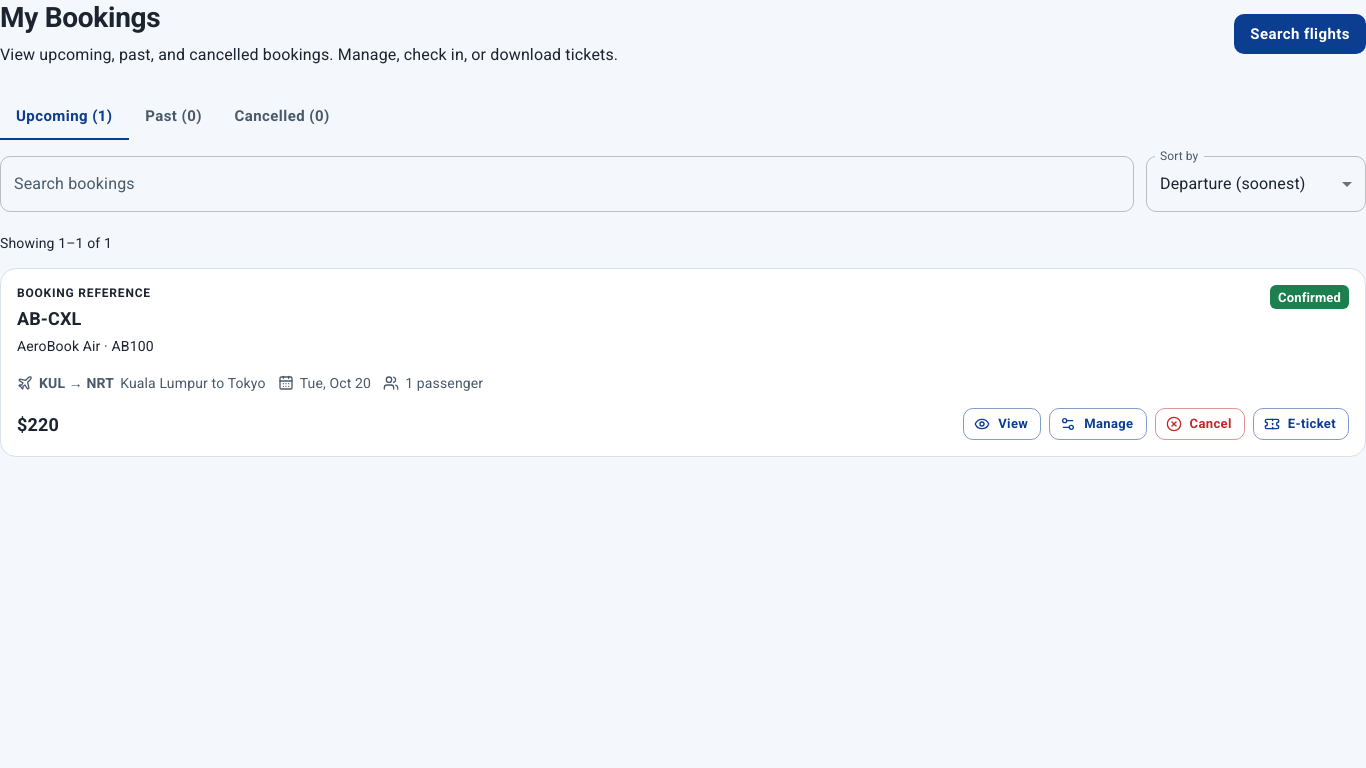
Test: MyBookingsPage › cancels a booking through the cancellation dialog flow
Click the button "Cancel". click: (1200, 424)
box: x1=1154 y1=408 x2=1245 y2=440
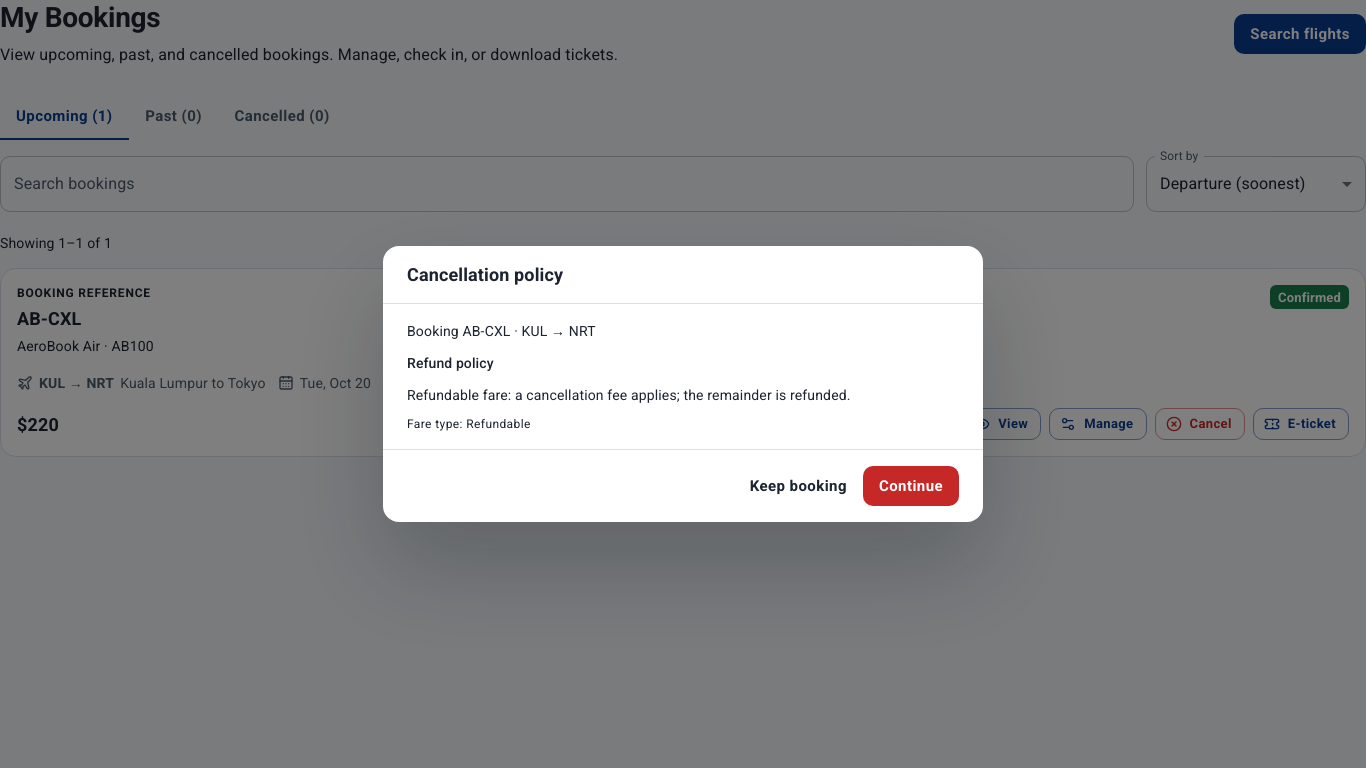
Click the button "Continue". click: (911, 486)
box: x1=863 y1=466 x2=959 y2=506
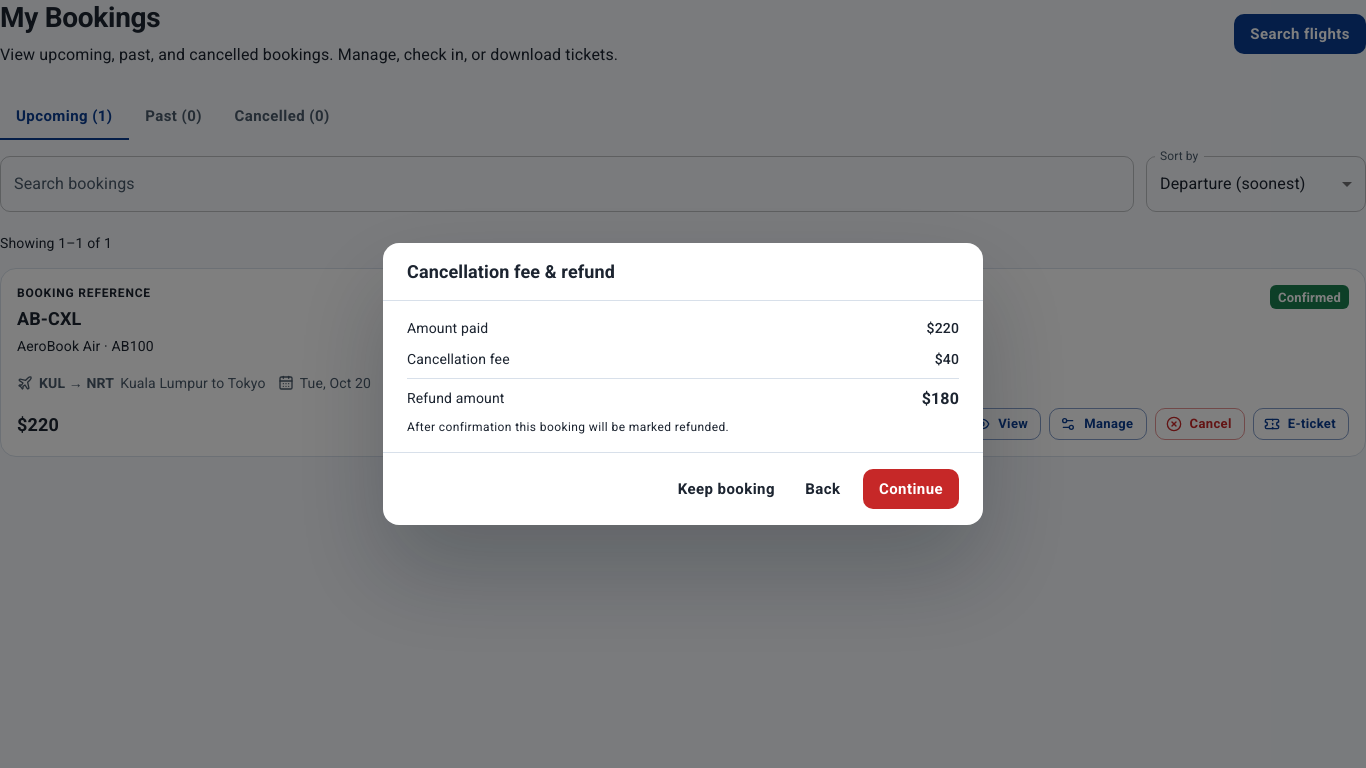
Click the button "Continue". click: (911, 489)
box: x1=863 y1=469 x2=959 y2=509
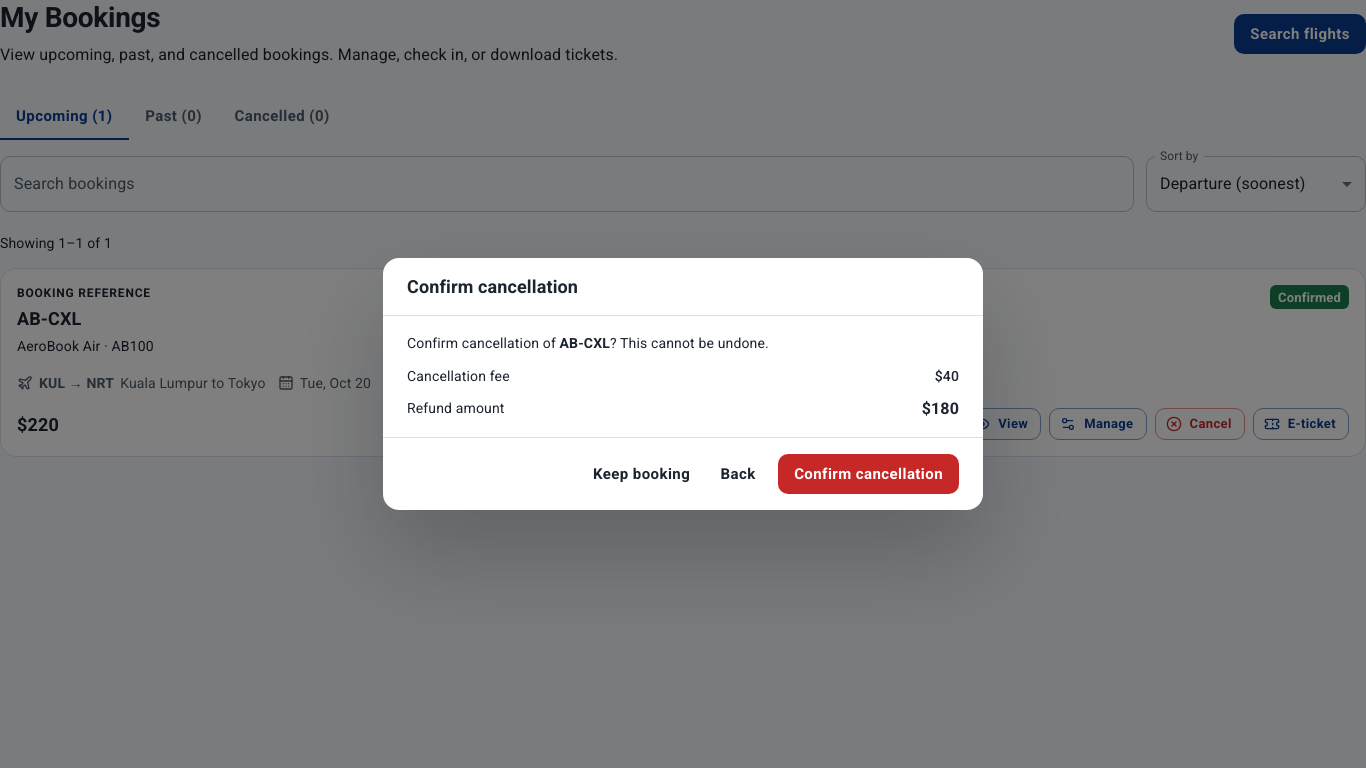
Click the button "Confirm cancellation". click: (869, 474)
box: x1=778 y1=454 x2=959 y2=494
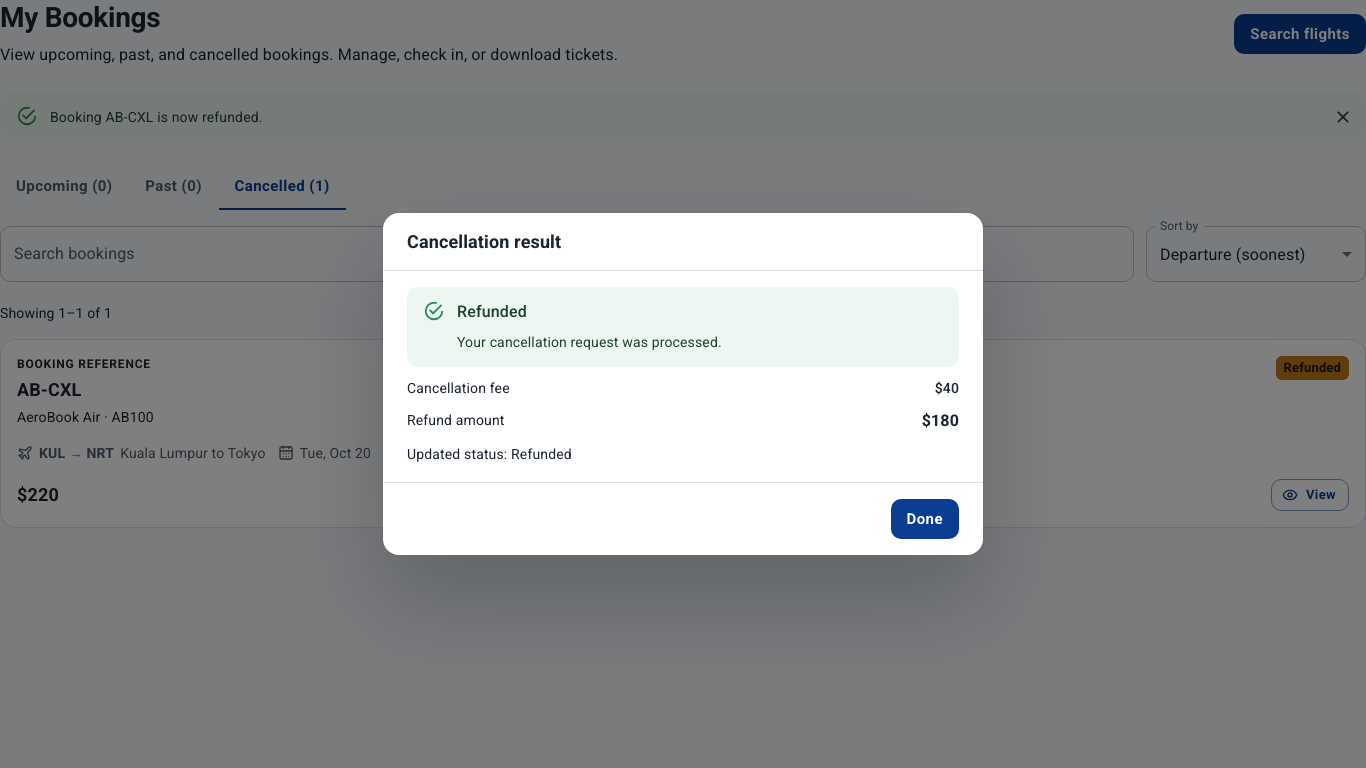
Click the button "Done". click: (925, 519)
box: x1=890 y1=499 x2=959 y2=539
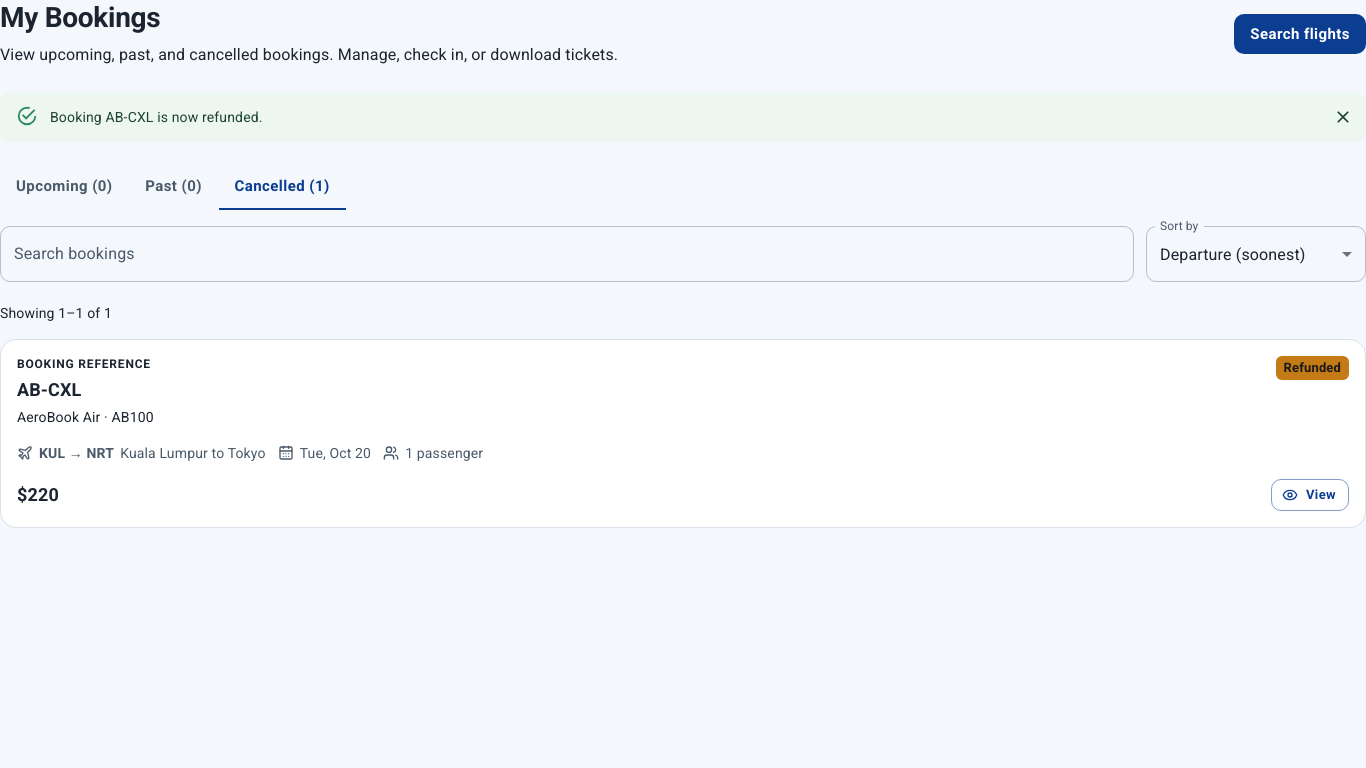
Expected: the heading "AB-CXL" is shown, x1=17 y1=379 x2=81 y2=400
Expected: the dialog is gone
